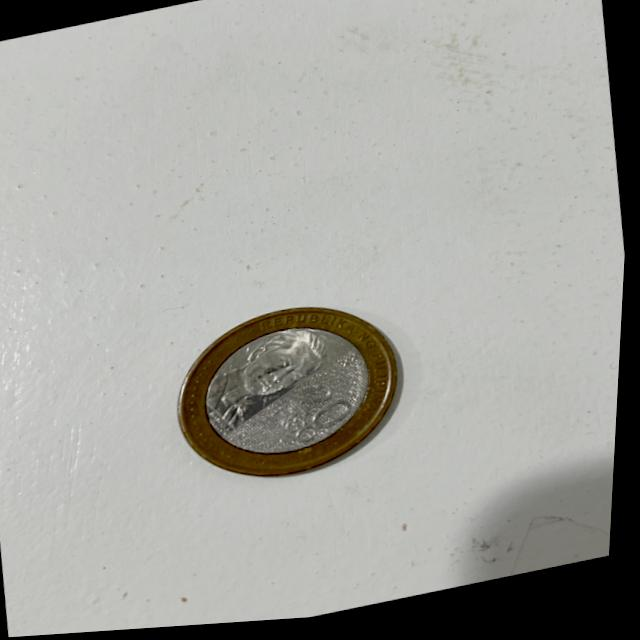20_New_Front: (271, 381, 365, 453)
